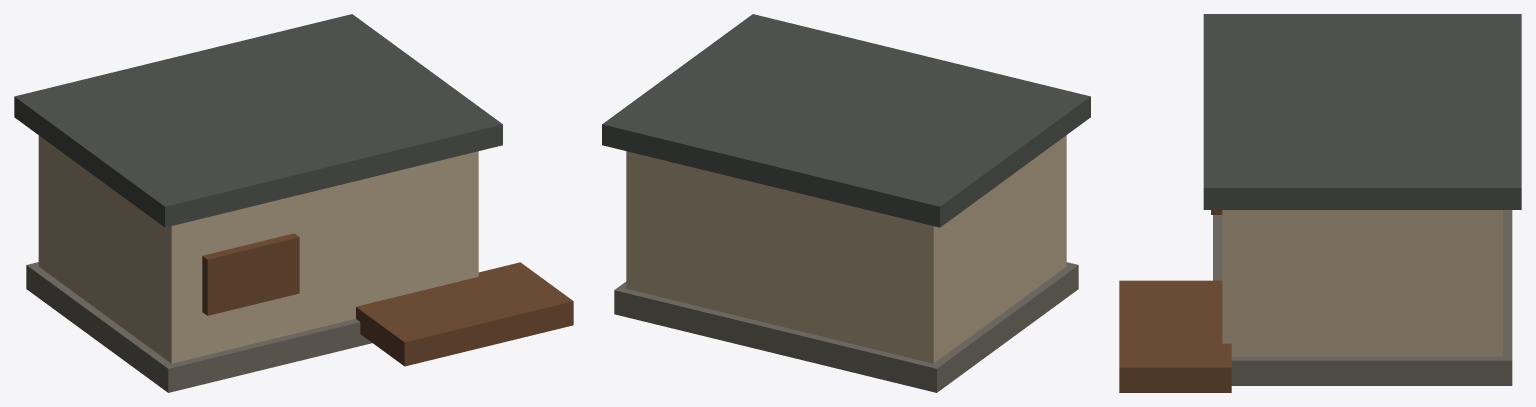
Rendered from ShippingOffice.glb.
The picture shows the model from 3 angles, left to right: view 1: azimuth 30°, elevation 25°; view 2: azimuth 150°, elevation 25°; view 3: azimuth 270°, elevation 25°; orthographic projection. The views are drawn at different scales.
Visible parts, largest first — view 1: hand-pump-static-shipping-office-roof, hand-pump-static-shipping-office-wall, hand-pump-static-shipping-office-timber, hand-pump-static-shipping-office-stone; view 2: hand-pump-static-shipping-office-roof, hand-pump-static-shipping-office-wall, hand-pump-static-shipping-office-stone; view 3: hand-pump-static-shipping-office-roof, hand-pump-static-shipping-office-wall, hand-pump-static-shipping-office-timber, hand-pump-static-shipping-office-stone.
Part boxes in pixels (x1=…): hand-pump-static-shipping-office-roof: x1=14, y1=14, x2=502, y2=227; hand-pump-static-shipping-office-wall: x1=38, y1=135, x2=478, y2=363; hand-pump-static-shipping-office-timber: x1=202, y1=233, x2=573, y2=366; hand-pump-static-shipping-office-stone: x1=26, y1=262, x2=372, y2=392; hand-pump-static-shipping-office-roof: x1=602, y1=14, x2=1090, y2=227; hand-pump-static-shipping-office-wall: x1=626, y1=135, x2=1066, y2=363; hand-pump-static-shipping-office-stone: x1=614, y1=262, x2=1078, y2=392; hand-pump-static-shipping-office-roof: x1=1203, y1=14, x2=1521, y2=209; hand-pump-static-shipping-office-wall: x1=1222, y1=210, x2=1502, y2=356; hand-pump-static-shipping-office-timber: x1=1119, y1=210, x2=1231, y2=392; hand-pump-static-shipping-office-stone: x1=1213, y1=210, x2=1512, y2=385.
Bounding box in the file's own units: 4.8 × 2.38 × 4.3.
